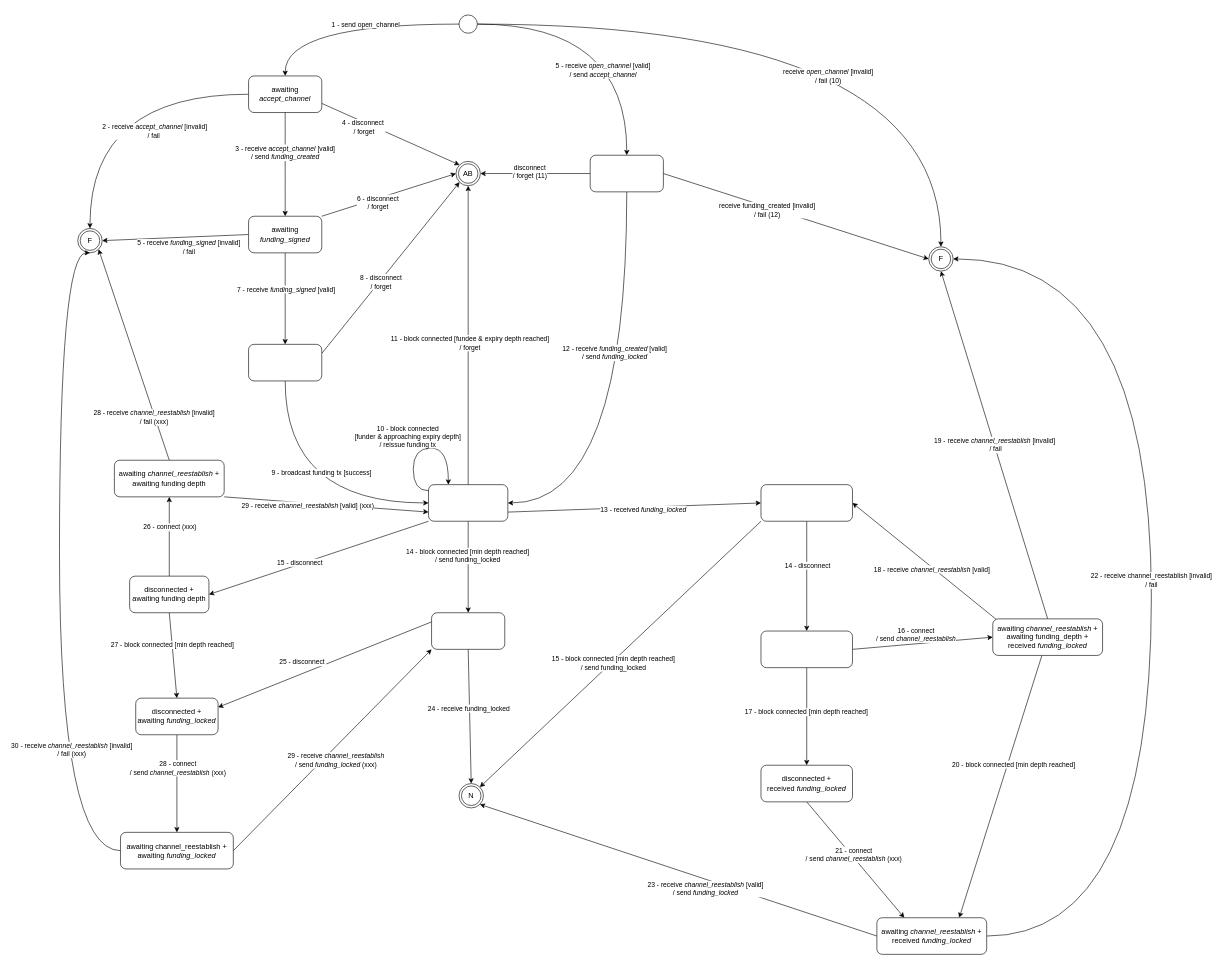
Some shapes in this 1222 by 965 pixel diagram are drawn without their labels. The shapes that lost their labels are listed below. From the top down, each one's centre as x and y in pixels, then its label:
(x=626, y=173): awaiting funding_created
(x=285, y=362): ready to broadcast funding tx
(x=468, y=502): awaiting funding depth
(x=806, y=502): awaiting funding depth + received funding_locked
(x=468, y=630): awaiting funding_locked
(x=806, y=649): disconnected + awaiting funding depth + received funding_locked
